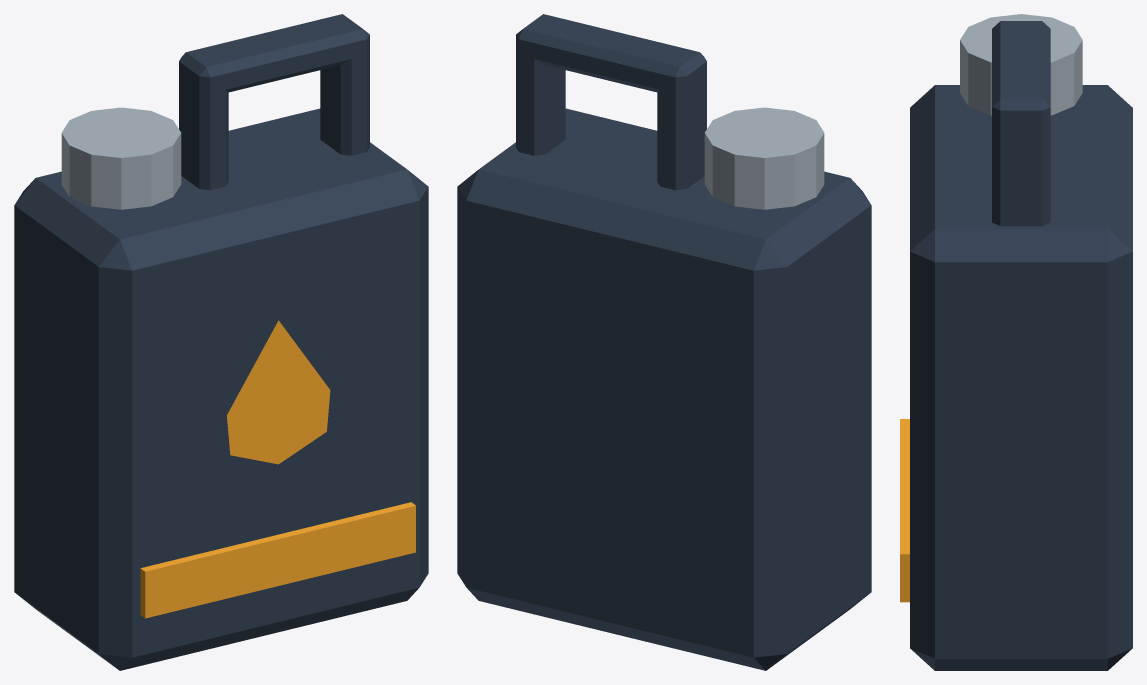
File: Item_HydraulicFluid.fbx
The picture shows the model from 3 angles, left to right: view 1: azimuth 30°, elevation 25°; view 2: azimuth 150°, elevation 25°; view 3: azimuth 270°, elevation 25°; orthographic projection. The views are drawn at different scales.
Parts seen in each view (by area): view 1: Item_HydraulicFluid; view 2: Item_HydraulicFluid; view 3: Item_HydraulicFluid.
Boxes of the visible parts, x1,y1,x2,y2 form: Item_HydraulicFluid: (14,14,428,670); Item_HydraulicFluid: (457,14,871,670); Item_HydraulicFluid: (900,14,1132,670).
Bounding box in the file's own units: 0.28 × 0.4475 × 0.167.
